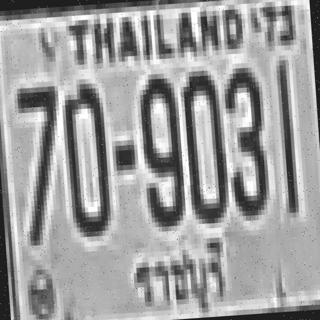N00: (60, 78, 111, 233), (179, 67, 227, 217)
N01: (274, 60, 297, 213)
N03: (223, 64, 267, 214)
N07: (13, 81, 65, 241), (13, 84, 62, 204), (13, 84, 61, 190)
N09: (135, 73, 184, 228)
P52: (127, 237, 230, 319)
